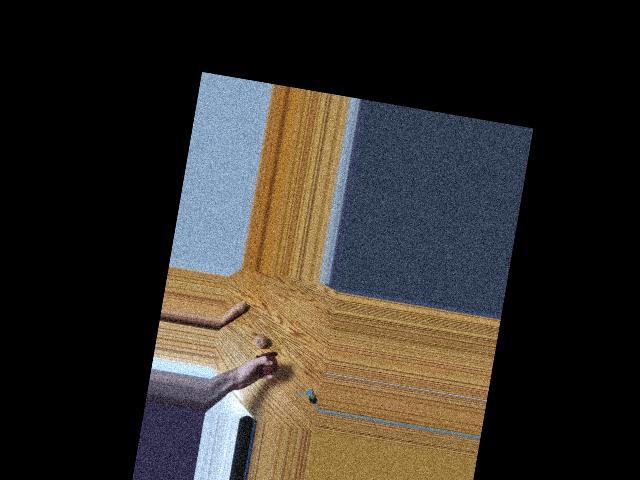onion: (248, 333, 268, 354)
